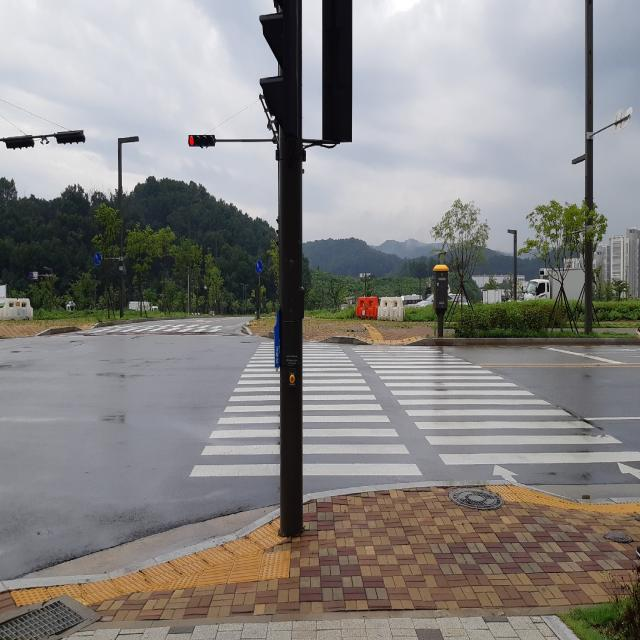횡단보도: (188, 339, 640, 488)
